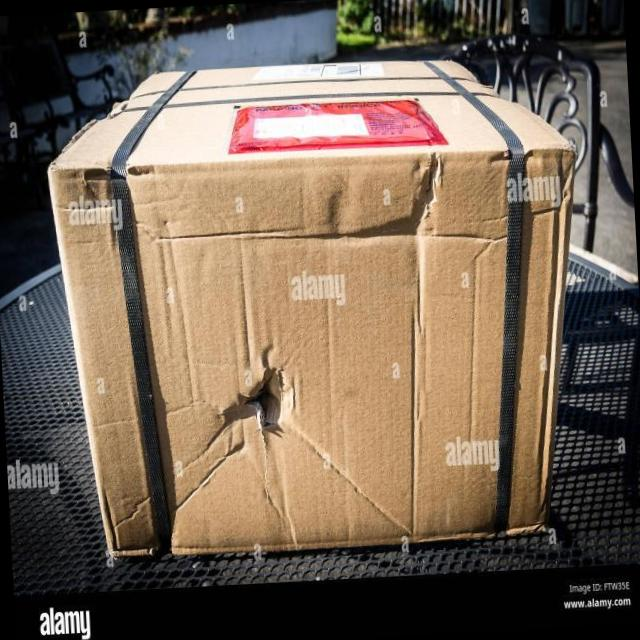box: (47, 55, 580, 559)
tear: (230, 358, 298, 436)
